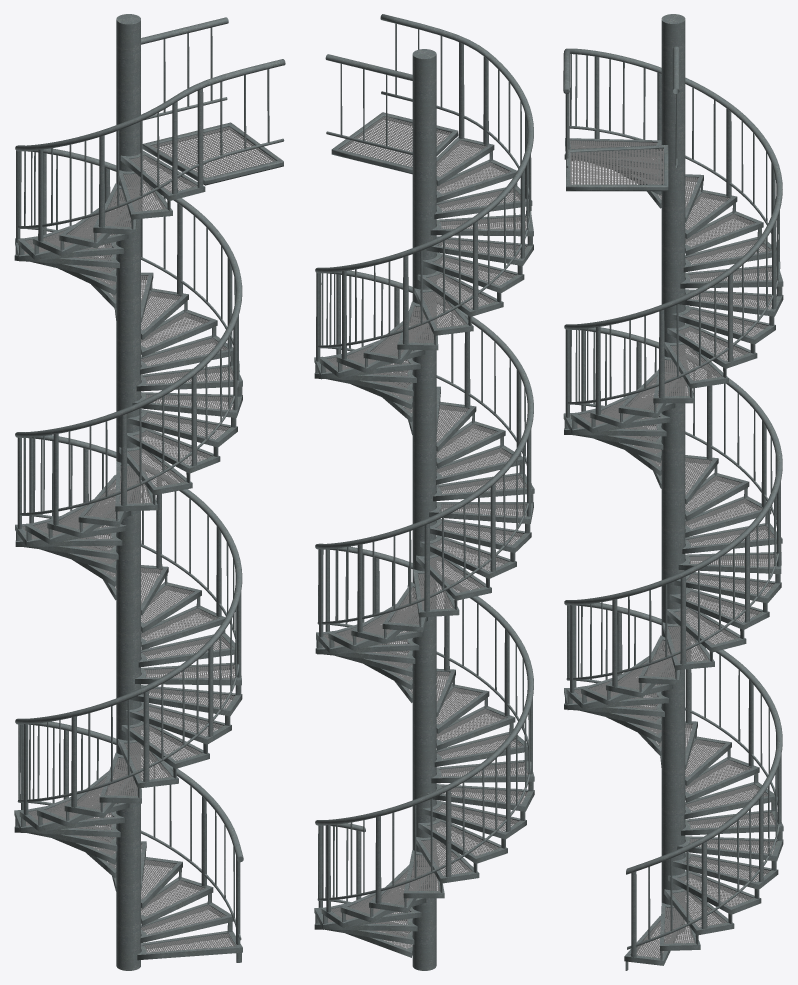
Rendered from spiral_staircase.fbx.
3 renders of one model, left to right at view 1: azimuth 30°, elevation 25°; view 2: azimuth 150°, elevation 25°; view 3: azimuth 270°, elevation 25°, orthographic. The views are drawn at different scales.
Visible parts, largest first — view 1: Cylinder.001; view 2: Cylinder.001; view 3: Cylinder.001.
Boxes of the visible parts, box(x1,y1,x2,y2) form: Cylinder.001: box(14, 14, 285, 970); Cylinder.001: box(314, 14, 534, 970); Cylinder.001: box(563, 14, 783, 970).
Size of what is drawn, in the model's own units: 452 by 2058 by 451.
